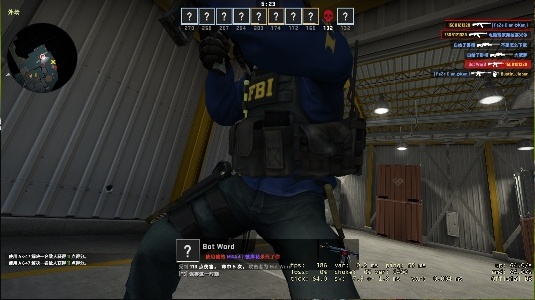body: (150, 2, 363, 300)
